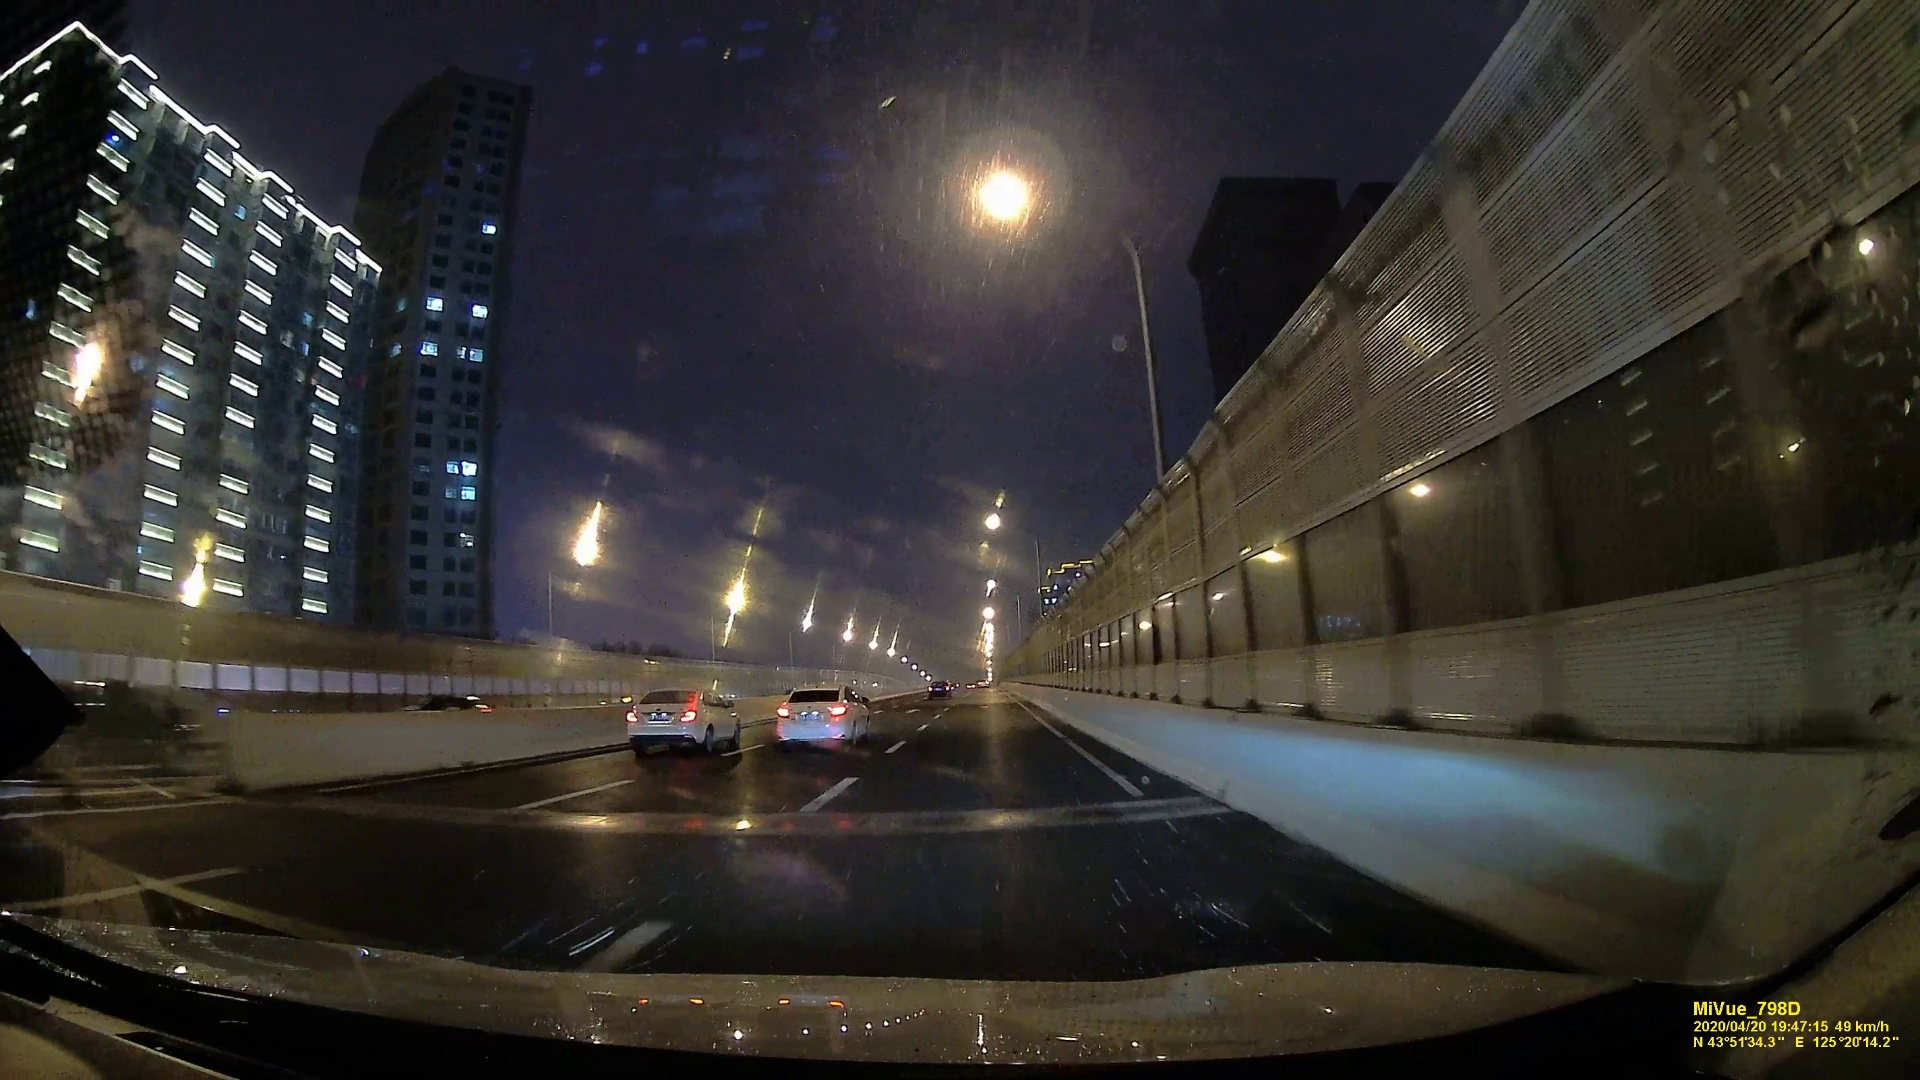vehicle: (626, 683, 744, 757), (775, 684, 876, 748), (926, 680, 948, 696)
